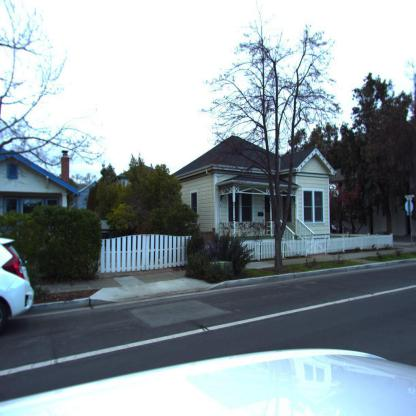car: (0, 233, 35, 340)
